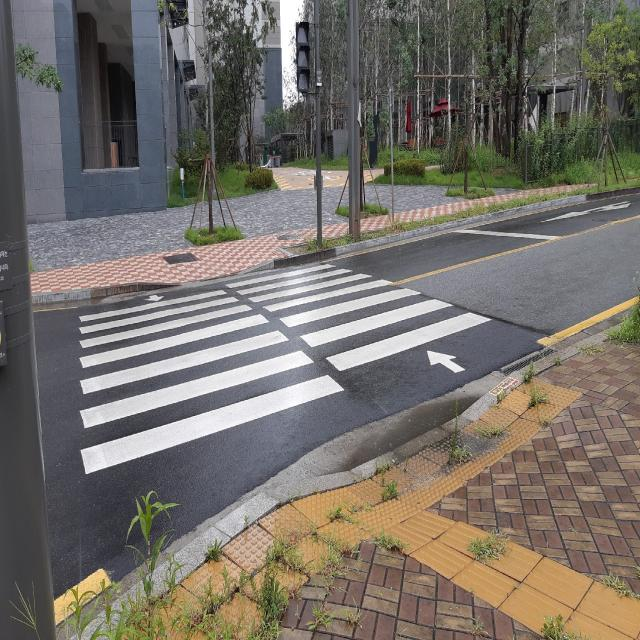횡단보도: (76, 257, 494, 478)
